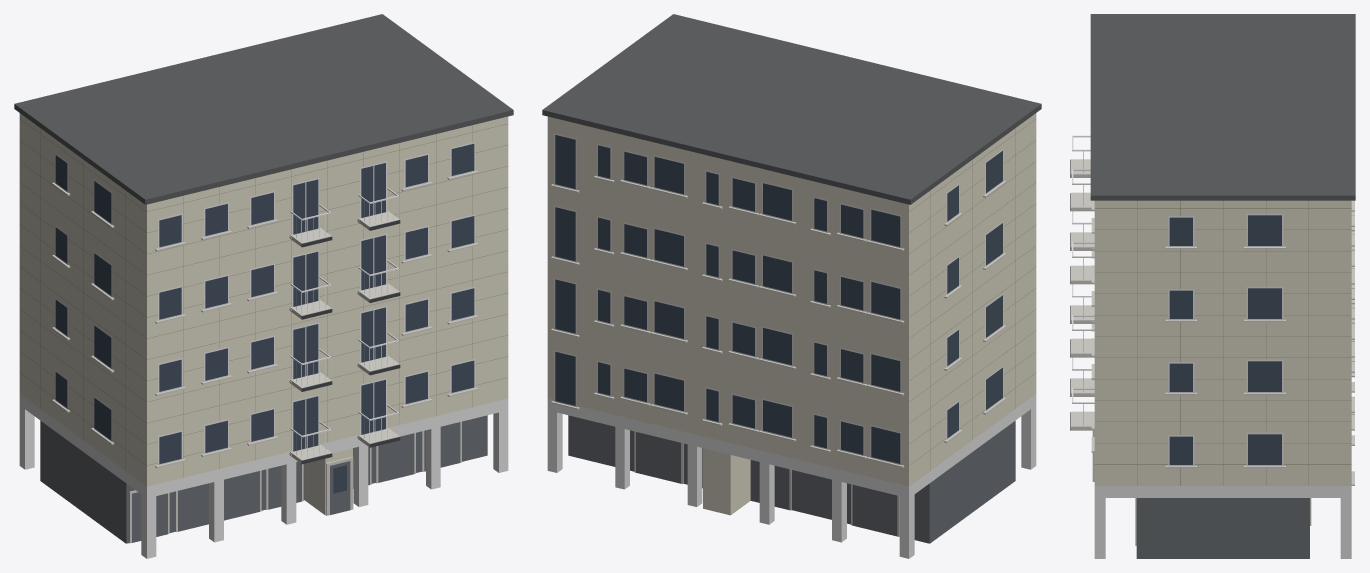
File: nw-pilotis-centre-panel-flat__concrete-panel__5__flat__long__pilotis.glb
3 views of the same model, side by side, from view 1: azimuth 30°, elevation 25°; view 2: azimuth 150°, elevation 25°; view 3: azimuth 270°, elevation 25° (orthographic).
Parts seen in each view (by area): view 1: nw-pilotis-centre-panel-flat__concrete-panel__5__flat__long_; view 2: nw-pilotis-centre-panel-flat__concrete-panel__5__flat__long_; view 3: nw-pilotis-centre-panel-flat__concrete-panel__5__flat__long_.
Boxes of the visible parts, <box> form: nw-pilotis-centre-panel-flat__concrete-panel__5__flat__long_: <box>14,14,513,558</box>; nw-pilotis-centre-panel-flat__concrete-panel__5__flat__long_: <box>542,14,1041,558</box>; nw-pilotis-centre-panel-flat__concrete-panel__5__flat__long_: <box>1070,14,1355,558</box>.
Size of the model in its own units: 16.4 by 15.39 by 10.9.
